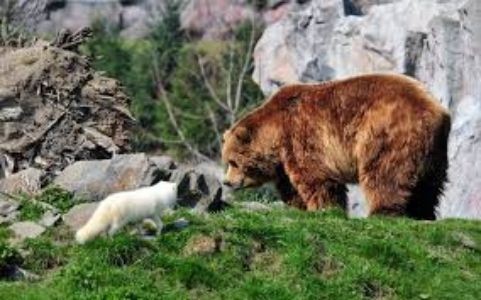bear: (219, 80, 451, 218)
wolf: (63, 177, 200, 247)
